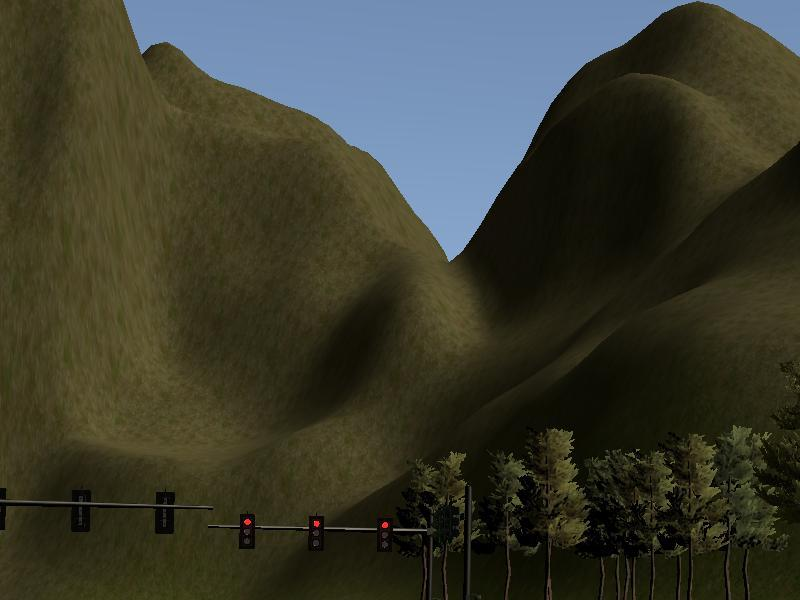Red: (239, 513, 256, 549), (376, 518, 393, 554), (307, 515, 324, 551)
